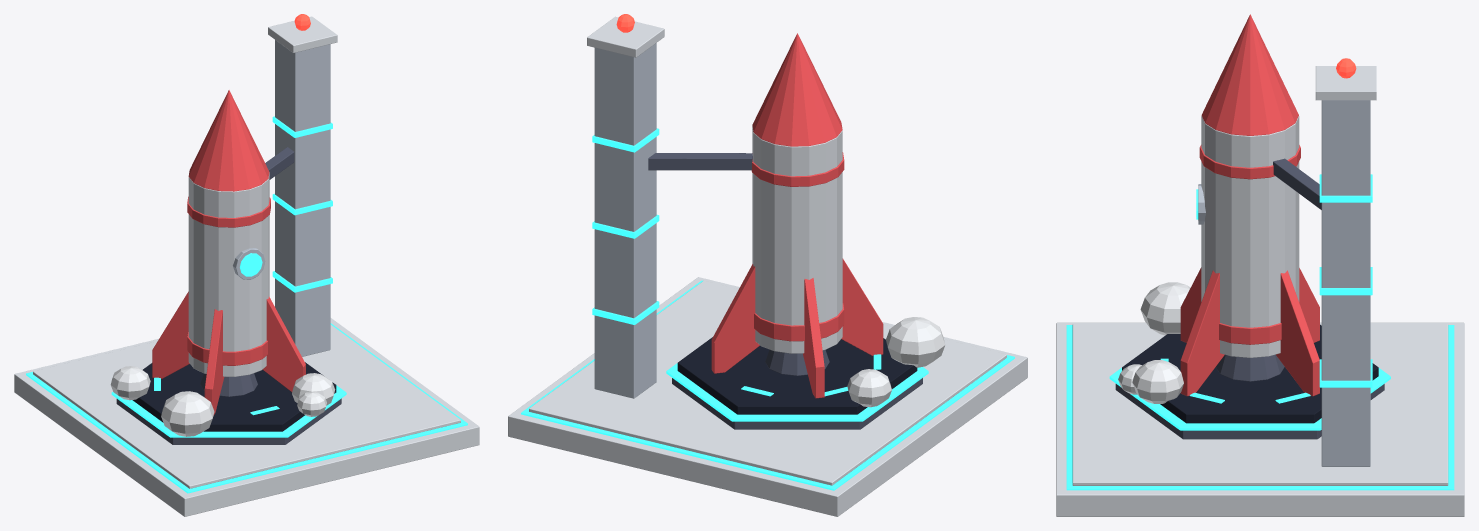
The model's file is rocket.glb.
3 views of the same model, side by side, from view 1: azimuth 30°, elevation 25°; view 2: azimuth 150°, elevation 25°; view 3: azimuth 270°, elevation 25° (orthographic). The views are drawn at different scales.
Visible parts, largest first — view 1: Rocket; view 2: Rocket; view 3: Rocket.
Boxes of the visible parts, x1=… form: Rocket: x1=14, y1=14, x2=479, y2=516; Rocket: x1=508, y1=14, x2=1027, y2=516; Rocket: x1=1056, y1=14, x2=1464, y2=516.
Size of the model in its own units: 2 by 2.3 by 2.
